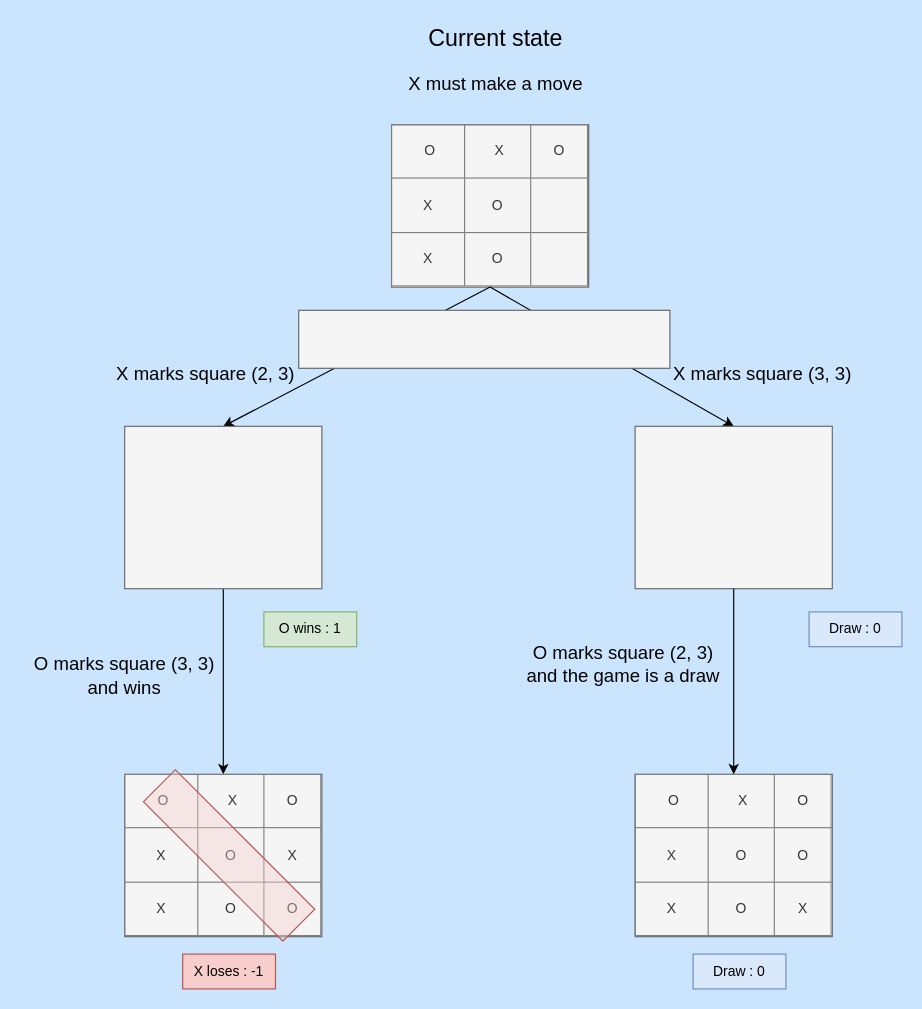
Some shapes in this 922 by 1009 pixel diagram are drawn without their labels. Here are the shapes that lost their labels. From the top down, the centre of each, then its label:
At (x=484, y=338): "A win is not available for X, however by marking (3, 3) X can achieve a draw".
At (x=223, y=507): "O X O X O X X O".
At (x=733, y=507): "O X O X O X O X".
